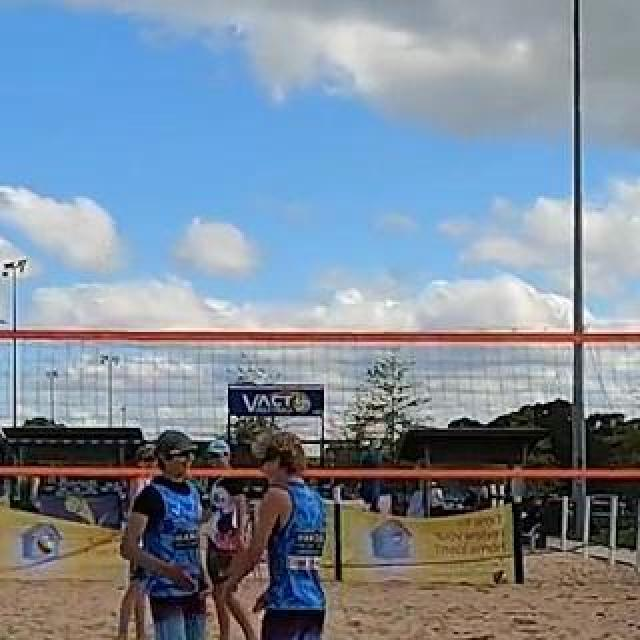volleyball: (492, 569, 510, 587)
